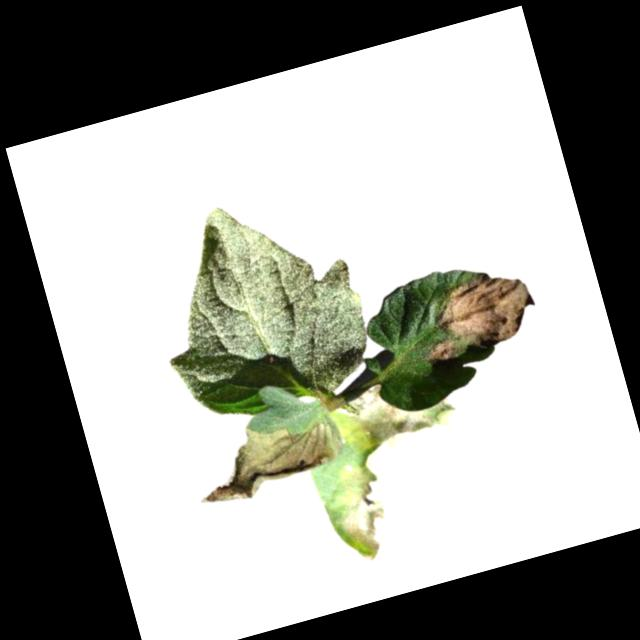Late_blight: (306, 369, 486, 563), (180, 402, 350, 514), (409, 263, 544, 363)
healthy: (132, 174, 385, 434)
